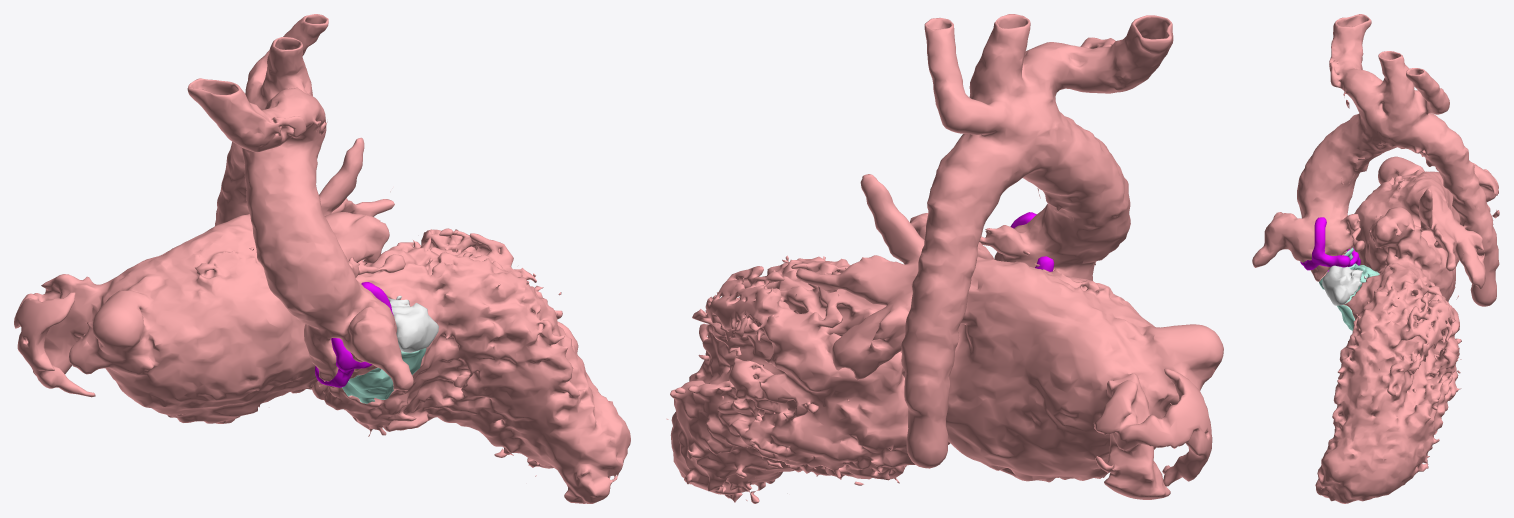
Rendered from Mustafina.gltf.
3 views of the same model, side by side, from view 1: azimuth 30°, elevation 25°; view 2: azimuth 150°, elevation 25°; view 3: azimuth 270°, elevation 25° (orthographic). The views are drawn at different scales.
Visible parts, largest first — view 1: Left Heart, Konno, LVOT, AoV; view 2: Left Heart; view 3: Left Heart, Konno, AoV, LVOT.
Part boxes in pixels (box(x1,y1,x2,y2)): Left Heart: box(14, 14, 630, 503); Konno: box(388, 295, 438, 352); LVOT: box(342, 348, 426, 403); AoV: box(315, 282, 393, 387); Left Heart: box(666, 14, 1223, 503); Left Heart: box(1252, 14, 1499, 503); Konno: box(1322, 265, 1366, 305); AoV: box(1300, 217, 1360, 271); LVOT: box(1319, 247, 1379, 330).
Size of the model in its own units: 93.09 by 83.85 by 53.17.
